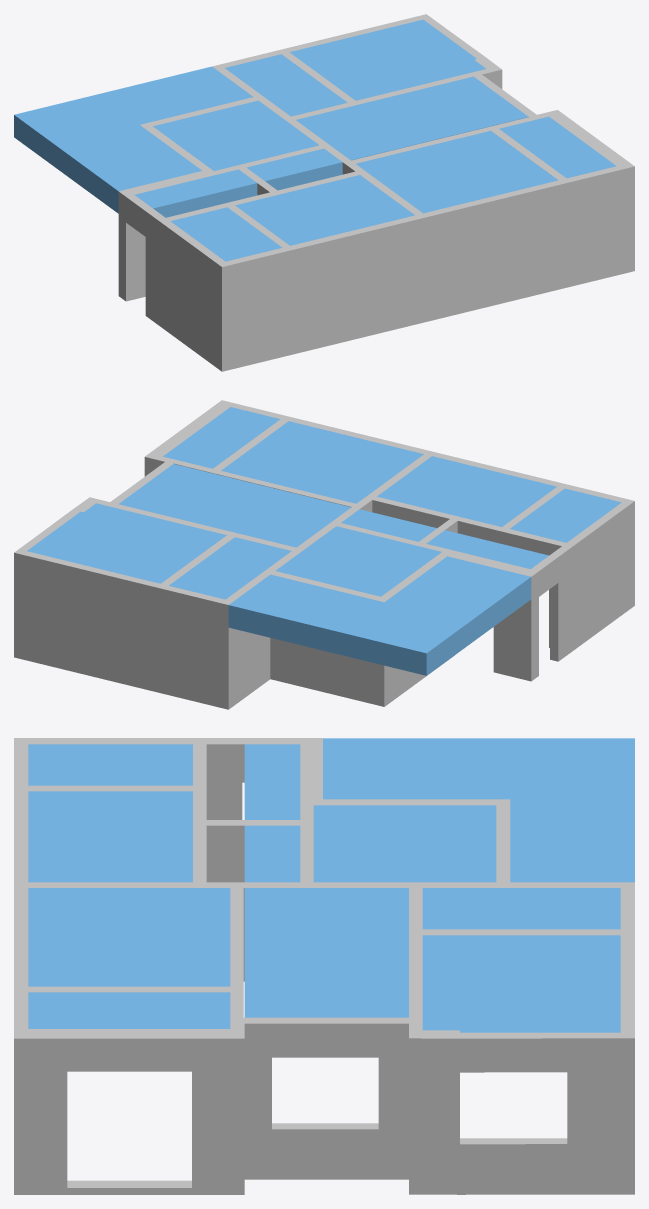
The model's file is output_boolean_regions.fbx.
3 views of the same model, one above another, from view 1: azimuth 30°, elevation 25°; view 2: azimuth 150°, elevation 25°; view 3: azimuth 270°, elevation 25° (orthographic). The views are drawn at different scales.
Parts seen in each view (by area): view 1: 承重墙_围合002, 承重墙_围合001, 布尔吊顶块008, 承重墙_围合000, 布尔吊顶块006, 布尔吊顶块002, 布尔吊顶块010, 布尔吊顶块001, 布尔吊顶块007, 布尔吊顶块009, 布尔吊顶块003, 布尔吊顶块004 (+15 smaller); view 2: 布尔吊顶块008, 承重墙_围合009, 布尔吊顶块006, 承重墙_围合000, 布尔吊顶块002, 布尔吊顶块010, 承重墙_围合008, 布尔吊顶块001, 承重墙_围合011, 布尔吊顶块007, 承重墙_围合010, 布尔吊顶块009 (+18 smaller); view 3: 布尔吊顶块008, 布尔吊顶块006, 布尔吊顶块002, 布尔吊顶块010, 布尔吊顶块001, 布尔吊顶块007, 承重墙_围合008, 承重墙_围合002, 承重墙_围合007, 布尔吊顶块009, 布尔吊顶块003, 布尔吊顶块000 (+29 smaller).
Part boxes in pixels (x1=…): 承重墙_围合002: x1=416, y1=153, x2=634, y2=323; 承重墙_围合001: x1=243, y1=215, x2=419, y2=365; 布尔吊顶块008: x1=14, y1=66, x2=252, y2=213; 承重墙_围合000: x1=145, y1=209, x2=247, y2=371; 布尔吊顶块006: x1=296, y1=76, x2=528, y2=160; 布尔吊顶块002: x1=356, y1=131, x2=558, y2=213; 布尔吊顶块010: x1=289, y1=19, x2=486, y2=100; 布尔吊顶块001: x1=235, y1=175, x2=414, y2=245; 布尔吊顶块007: x1=153, y1=100, x2=318, y2=170; 布尔吊顶块009: x1=225, y1=54, x2=347, y2=116; 布尔吊顶块003: x1=499, y1=116, x2=616, y2=178; 布尔吊顶块004: x1=134, y1=169, x2=257, y2=217; 布尔吊顶块008: x1=228, y1=556, x2=531, y2=675; 承重墙_围合009: x1=85, y1=566, x2=204, y2=702; 布尔吊顶块006: x1=118, y1=464, x2=350, y2=547; 承重墙_围合000: x1=549, y1=494, x2=634, y2=661; 布尔吊顶块002: x1=221, y1=421, x2=423, y2=503; 布尔吊顶块010: x1=27, y1=503, x2=226, y2=583; 承重墙_围合008: x1=14, y1=536, x2=89, y2=674; 布尔吊顶块001: x1=377, y1=456, x2=556, y2=526; 承重墙_围合011: x1=270, y1=571, x2=417, y2=706; 布尔吊顶块007: x1=275, y1=526, x2=441, y2=596; 承重墙_围合010: x1=200, y1=547, x2=303, y2=709; 布尔吊顶块009: x1=169, y1=537, x2=291, y2=599; 布尔吊顶块008: x1=323, y1=738, x2=634, y2=882; 布尔吊顶块006: x1=244, y1=888, x2=408, y2=1017; 布尔吊顶块002: x1=28, y1=888, x2=230, y2=986; 布尔吊顶块010: x1=422, y1=935, x2=620, y2=1032; 布尔吊顶块001: x1=28, y1=791, x2=192, y2=882; 布尔吊顶块007: x1=313, y1=805, x2=496, y2=882; 承重墙_围合008: x1=567, y1=986, x2=634, y2=1194; 承重墙_围合002: x1=14, y1=882, x2=67, y2=1194; 承重墙_围合007: x1=409, y1=972, x2=459, y2=1194; 布尔吊顶块009: x1=422, y1=888, x2=620, y2=929; 布尔吊顶块003: x1=28, y1=992, x2=230, y2=1028; 布尔吊顶块000: x1=28, y1=744, x2=192, y2=785.
Size of the model in its own units: 11.99 by 2.91 by 10.47.
